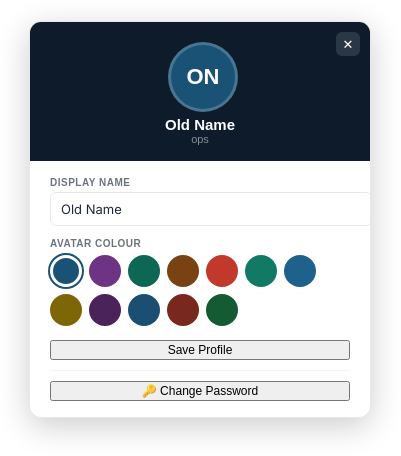
Test: UserProfilePanel: Save Profile now actually persists (was a client-side no-op) › calls db.auth.updateOwnProfile with the entered name/color, and calls onSave with the real returned user on success
Replace the text in the field showing "Old Name" with "New Name" at (211, 209), box [50,192,372,226]
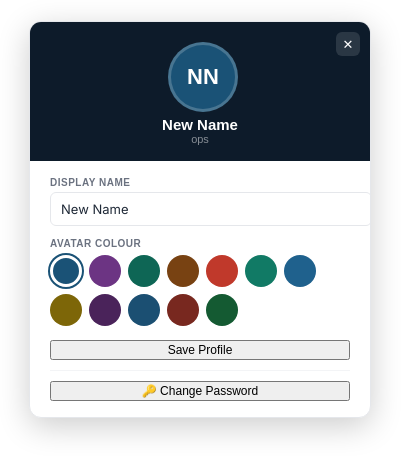
Click the button "Save Profile".
click(200, 350)  # box [50,340,350,360]
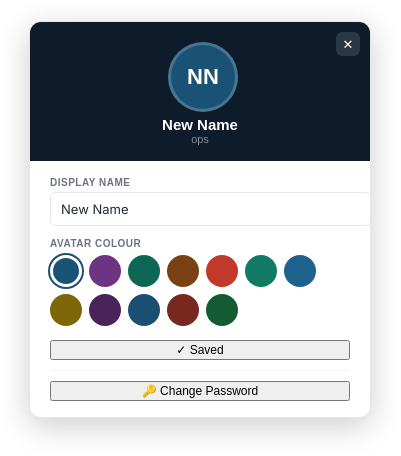
Now the button "✓ Saved" is shown, box [50,340,350,360]
